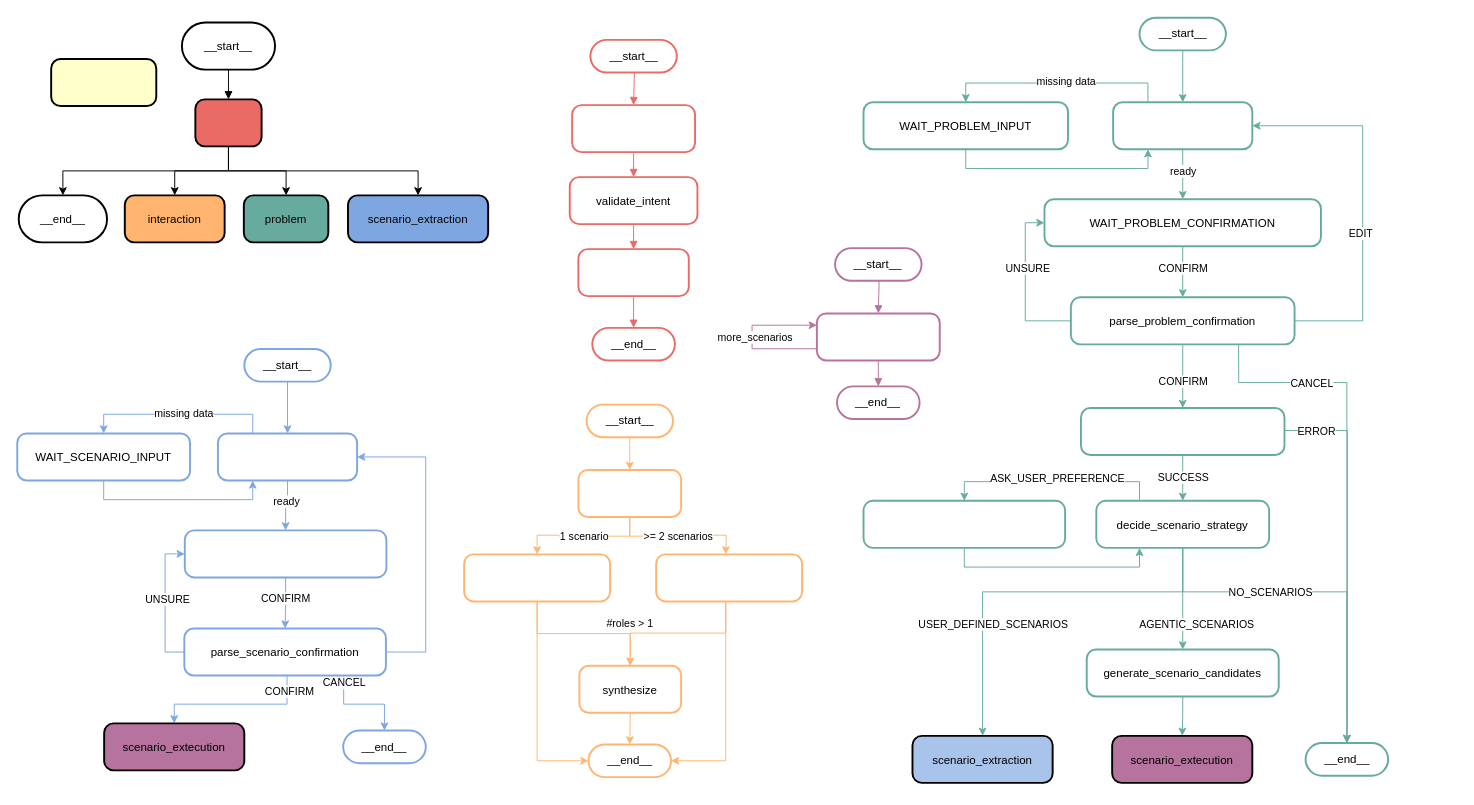
Image size: 1474x805. Some labels were removed from this diagram. Each missing label, with the centre of its shape:
"assess_intent" belongs at [633,128].
"compare_scenarios" belongs at [729,577].
"create_problem" belongs at [1182,431].
"error_recovery" belongs at [103,82].
"extract_problem" belongs at [1182,125].
"extract_scenario" belongs at [287,456].
"intent" belongs at [228,122].
"interact_scenario" belongs at [537,577].
"route_intent" belongs at [633,272].
"run_scenario" belongs at [877,336].
"select_role" belongs at [629,492].
"WAIT_SCENARIO_CONFIRMATION" belongs at [285,553].
"WAIT_SCENARIO_PREFERENCE" belongs at [964,523].
